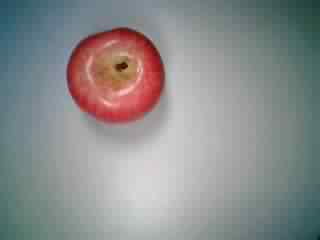apple: (63, 26, 168, 128)
